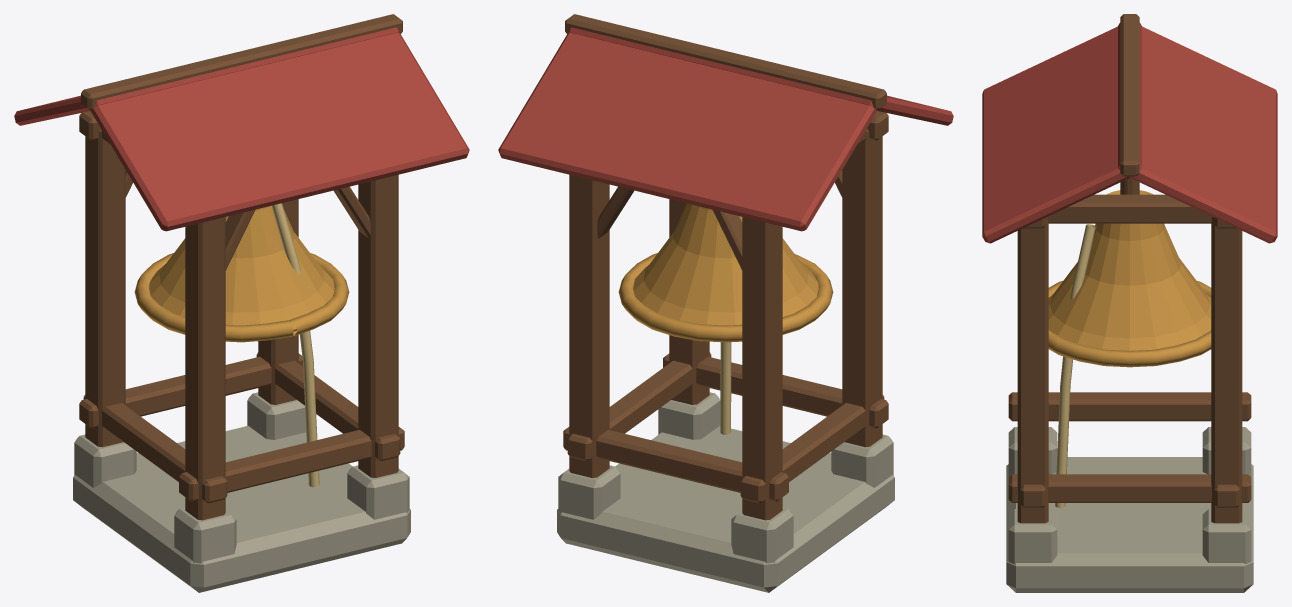
Rendered from bell_tower.glb.
3 views of the same model, side by side, from view 1: azimuth 30°, elevation 25°; view 2: azimuth 150°, elevation 25°; view 3: azimuth 270°, elevation 25° (orthographic). The views are drawn at different scales.
Parts seen in each view (by area): view 1: Pigment_755033, Pigment_a7483d, Pigment_a49f8b, Pigment_c59143, Pigment_d6bc80; view 2: Pigment_755033, Pigment_a7483d, Pigment_a49f8b, Pigment_c59143, Pigment_d6bc80; view 3: Pigment_a7483d, Pigment_755033, Pigment_a49f8b, Pigment_c59143, Pigment_d6bc80.
Boxes of the visible parts, bbox=[...] form: Pigment_755033: bbox=[79, 14, 404, 520]; Pigment_a7483d: bbox=[14, 27, 469, 231]; Pigment_a49f8b: bbox=[73, 392, 410, 592]; Pigment_c59143: bbox=[134, 206, 349, 342]; Pigment_d6bc80: bbox=[271, 203, 319, 487]; Pigment_755033: bbox=[563, 14, 888, 520]; Pigment_a7483d: bbox=[498, 27, 953, 231]; Pigment_a49f8b: bbox=[557, 392, 894, 592]; Pigment_c59143: bbox=[618, 203, 833, 342]; Pigment_d6bc80: bbox=[720, 342, 731, 434]; Pigment_a7483d: bbox=[982, 22, 1277, 243]; Pigment_755033: bbox=[1008, 14, 1251, 523]; Pigment_a49f8b: bbox=[1006, 427, 1253, 592]; Pigment_c59143: bbox=[1048, 190, 1211, 367]; Pigment_d6bc80: bbox=[1055, 224, 1096, 507].
Size of the model in its own units: 3.65 by 5.21 by 3.05.
